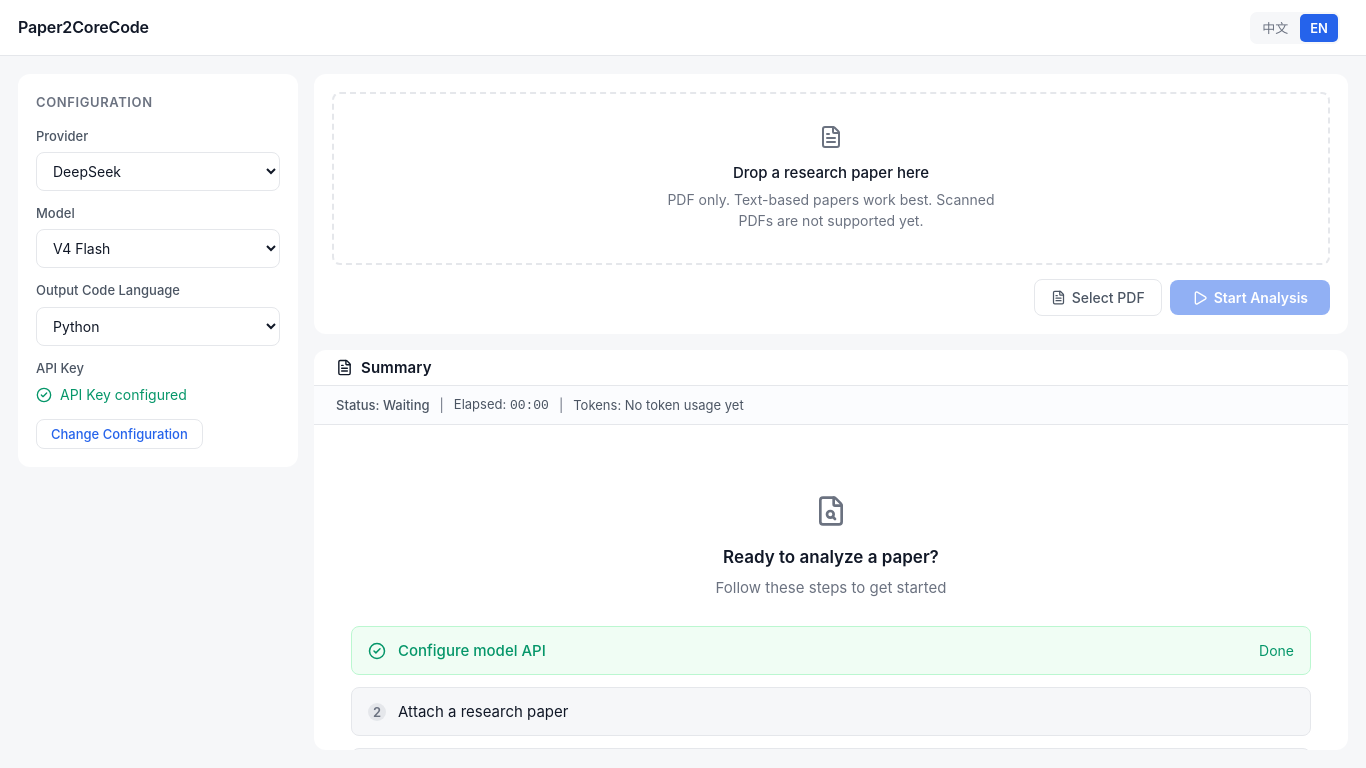
Test: App analysis flow › sets error status when analyzePaper rejects
The image size is (1366, 768).
Expected: the text "API Key configured" is shown, [60, 384, 187, 405]
Click the button "Select PDF": (1098, 298) [1034, 279, 1162, 316]
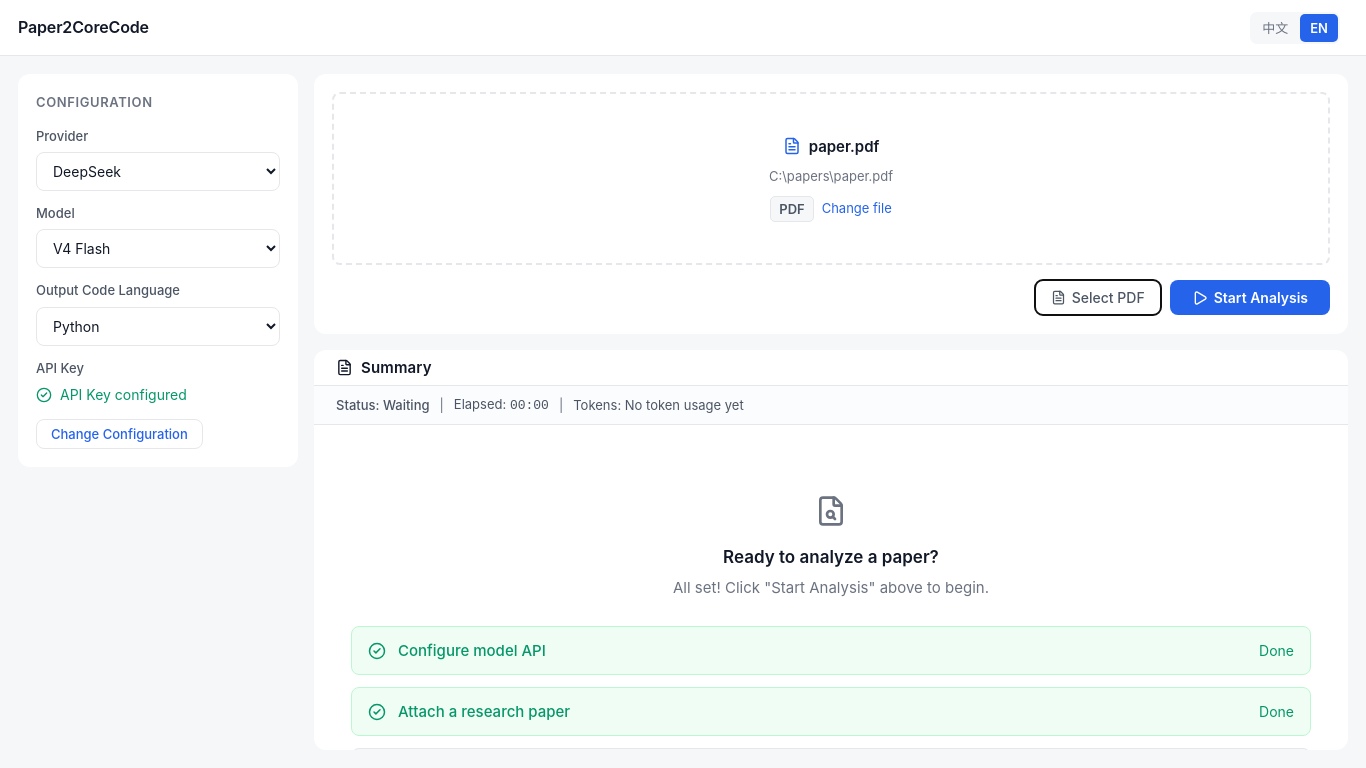
Click the button "Start Analysis": (1250, 298) [1170, 280, 1330, 315]
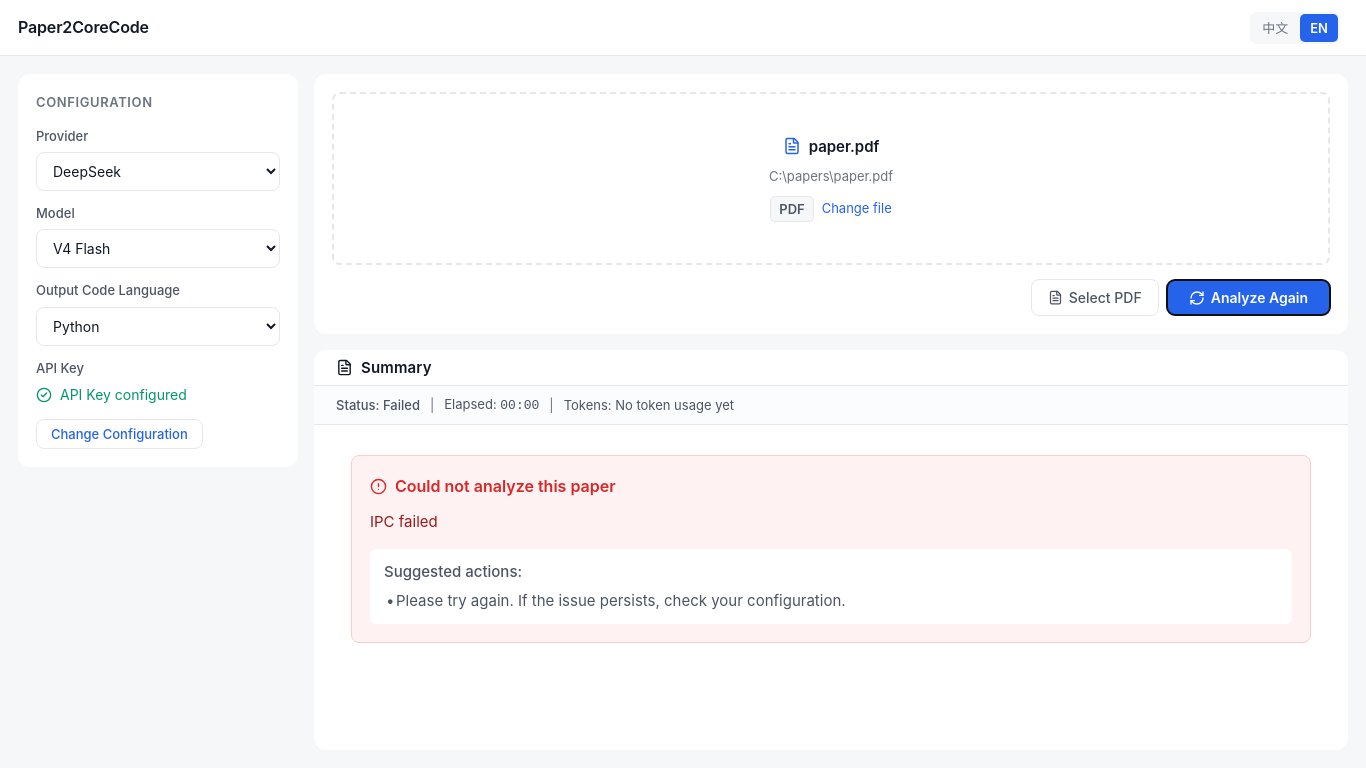
Expected: the text "Status: Failed" is shown, [336, 395, 420, 415]
Expected: the text "IPC failed" is shown, [370, 512, 438, 531]
